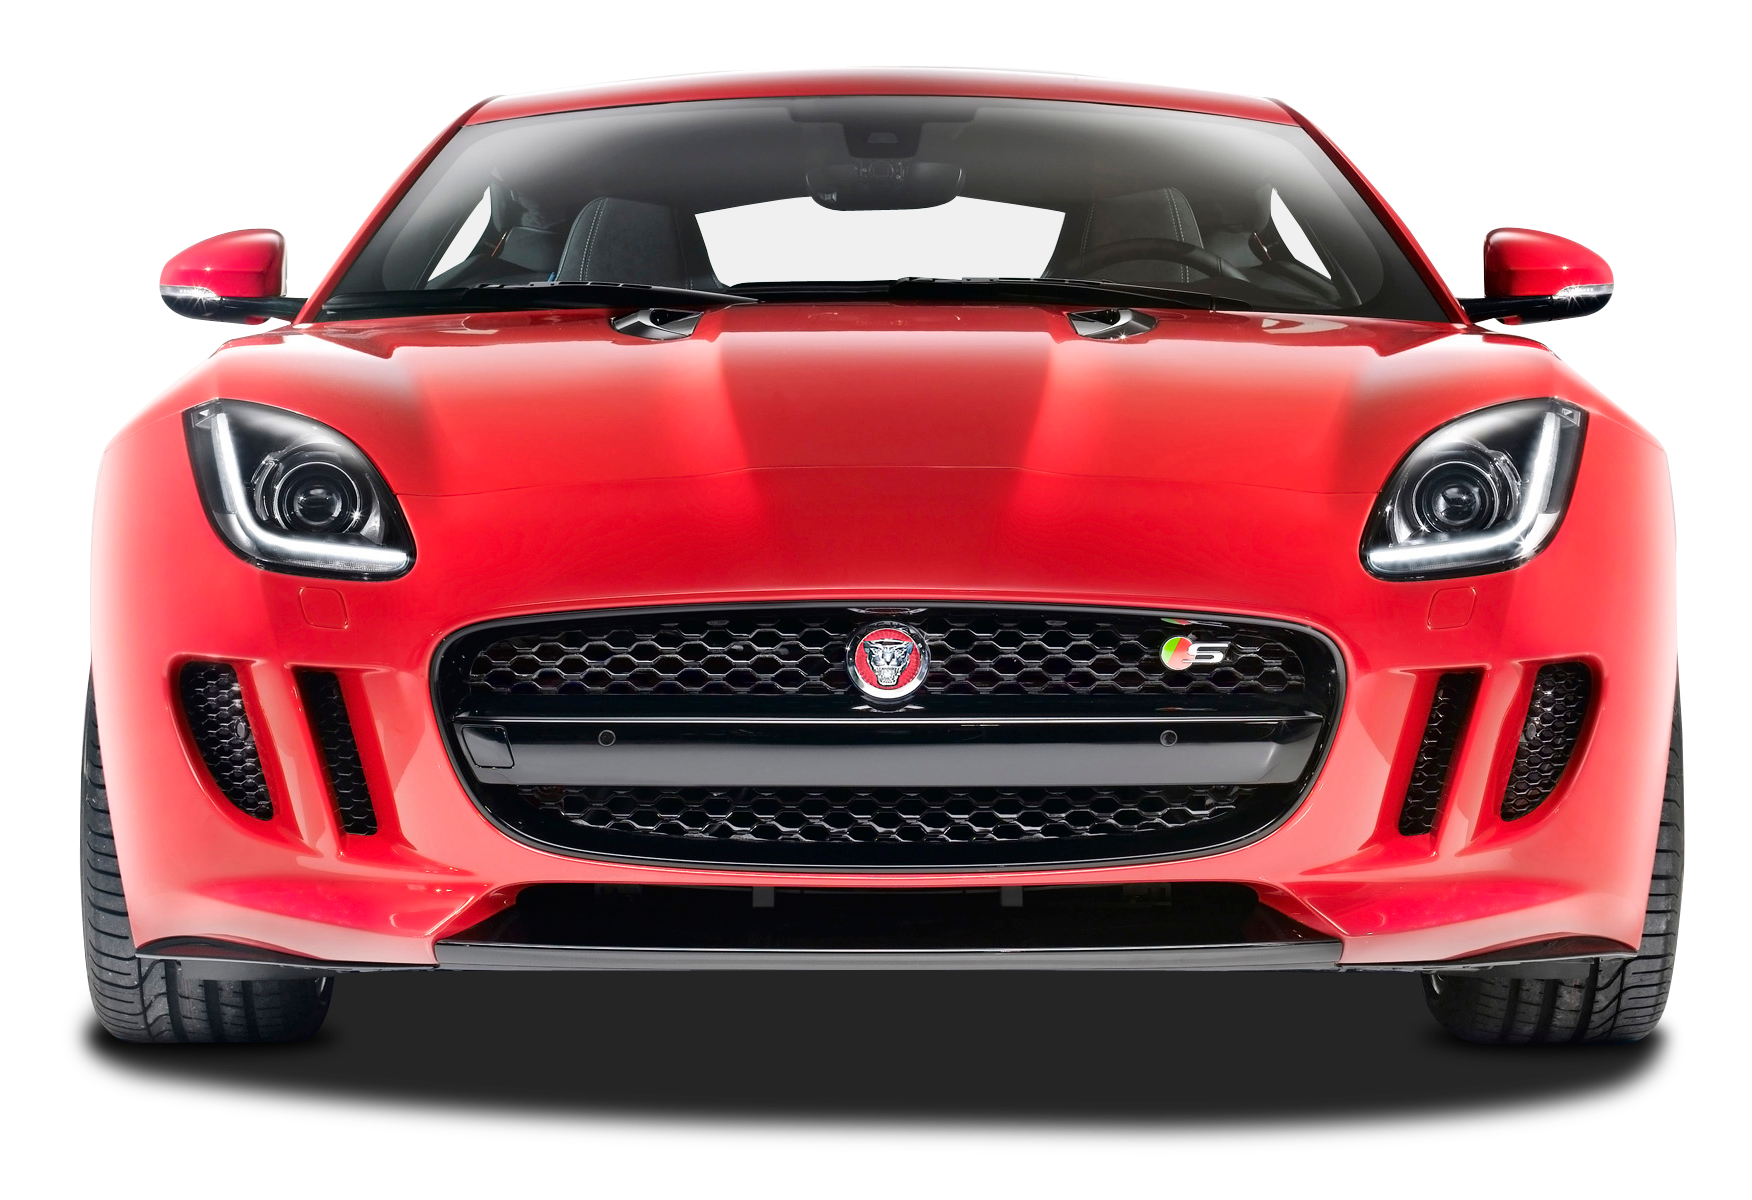P1_: (1138, 783, 1153, 798)
bbox: (642, 784, 1138, 919)
